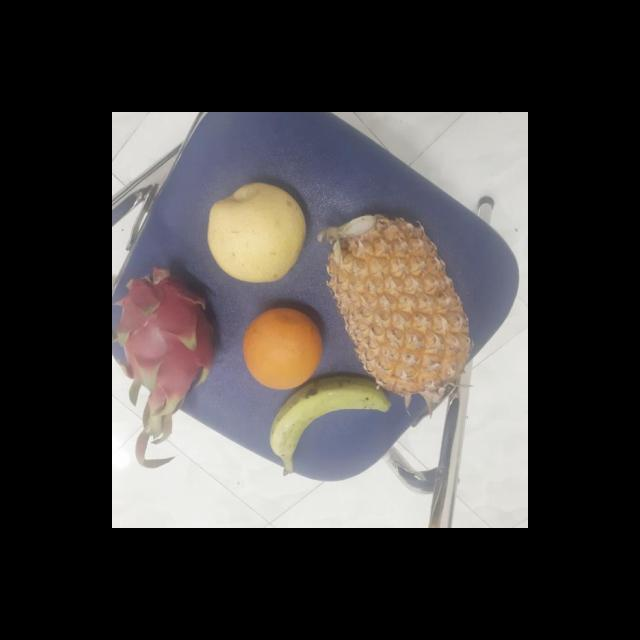banana: (272, 378, 391, 474)
guava: (205, 184, 308, 283)
orange: (238, 306, 328, 394)
pineapple: (320, 213, 474, 395)
pitaya: (112, 263, 224, 417)
